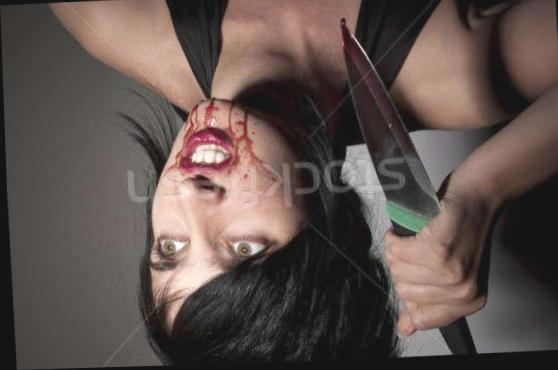Fire: (158, 100, 288, 210), (342, 19, 347, 50), (348, 31, 351, 38)
